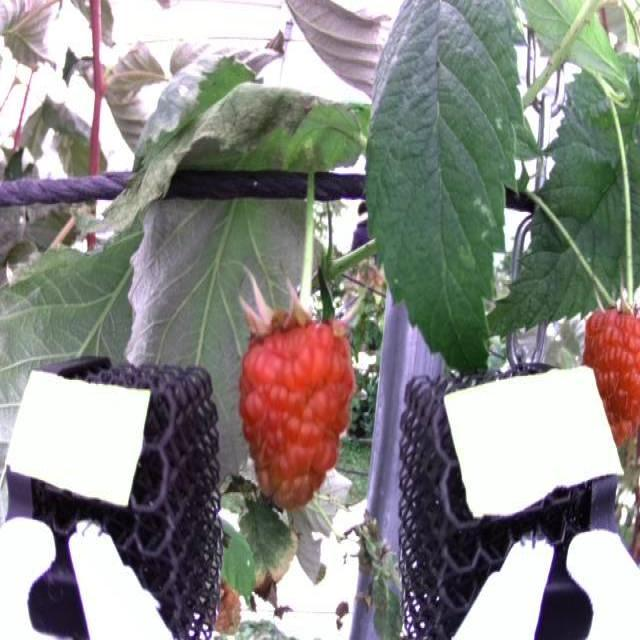Riped berries: (227, 279, 364, 510), (575, 288, 640, 444)
